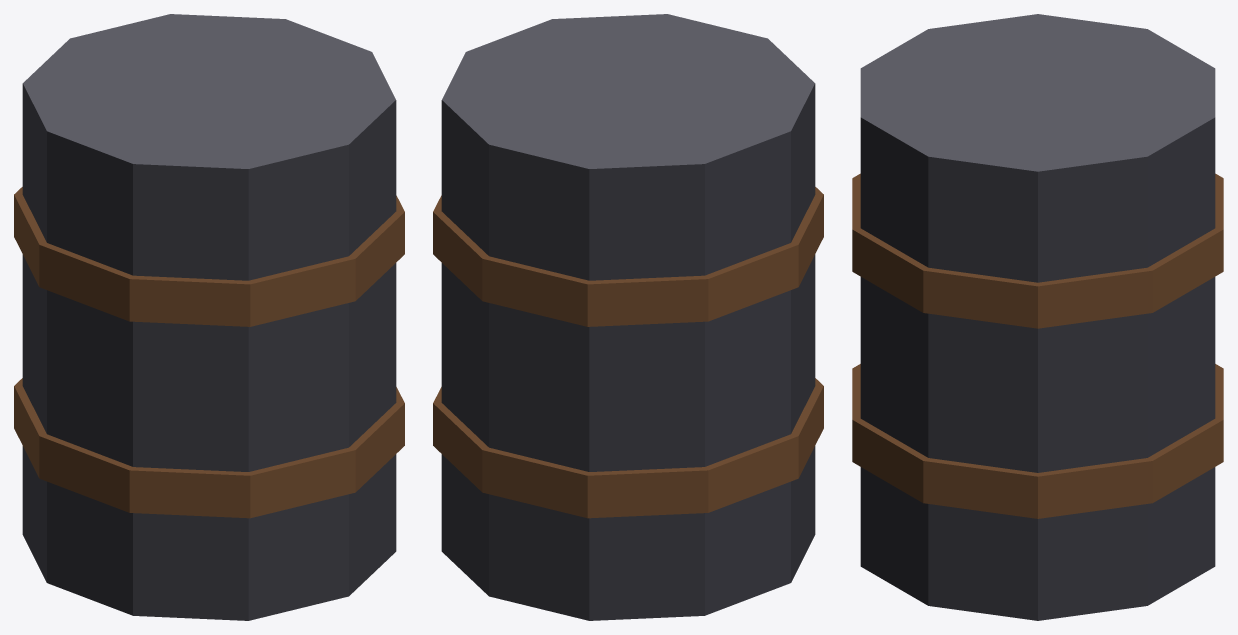
The model's file is crude_oil.glb.
The picture shows the model from 3 angles, left to right: view 1: azimuth 30°, elevation 25°; view 2: azimuth 150°, elevation 25°; view 3: azimuth 270°, elevation 25°; orthographic projection.
Visible parts, largest first — view 1: crude_oil; view 2: crude_oil; view 3: crude_oil.
Part boxes in pixels (<box>): crude_oil: <box>14,14,404,620</box>; crude_oil: <box>433,14,823,620</box>; crude_oil: <box>852,14,1223,620</box>.
Size of the model in its own units: 0.67 by 0.85 by 0.6372.
